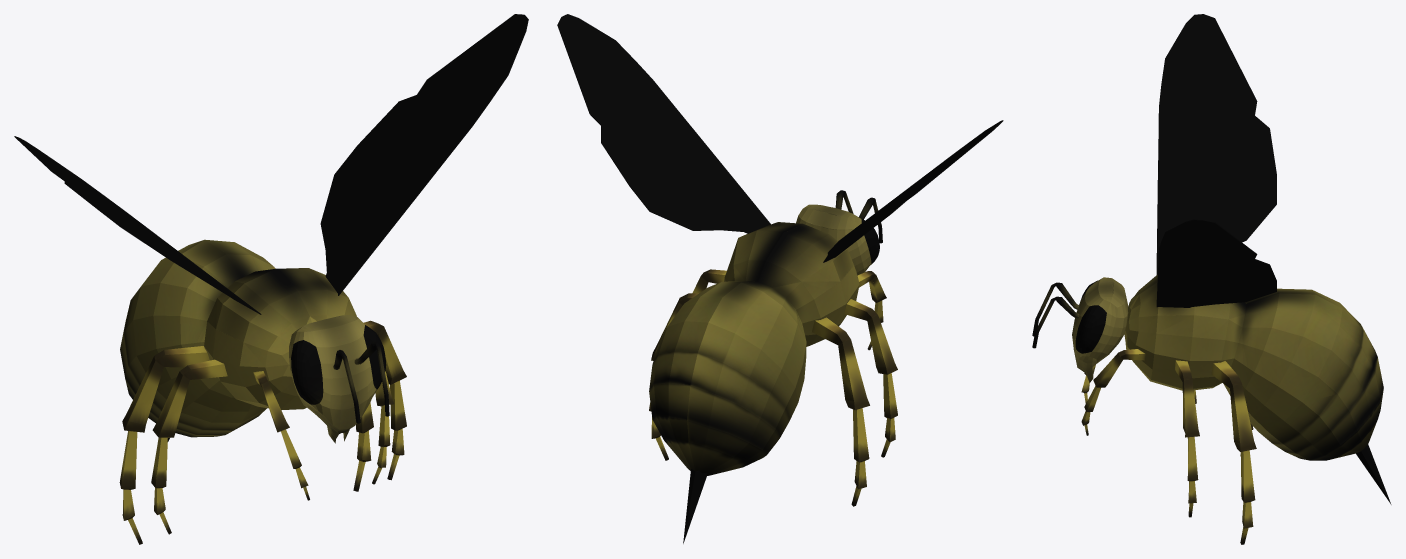
Rendered from beeReady.glb.
3 renders of one model, left to right at view 1: azimuth 30°, elevation 25°; view 2: azimuth 150°, elevation 25°; view 3: azimuth 270°, elevation 25°, orthographic. The views are drawn at different scales.
Parts seen in each view (by area): view 1: BodyMesh, Wingmesh.L, HeadMesh, BackLegMesh.R, Wingmesh.L.001, MiddleLegMesh.R, MiddleLegMesh.L, FrontLegMesh.L, FrontLegMesh.L.001, BackLegMesh.L; view 2: BodyMesh, Wingmesh.L, BackLegMesh.R, HeadMesh, MiddleLegMesh.R, Wingmesh.L.001, FrontLegMesh.L, BackLegMesh.L; view 3: BodyMesh, Wingmesh.L.001, Wingmesh.L, HeadMesh, BackLegMesh.L, MiddleLegMesh.L, FrontLegMesh.L.001, AntennaMesh.L.001, AntennaMesh.L.
Boxes of the visible parts, x1,y1,x2,y2 form: BodyMesh: [120, 239, 356, 441]; Wingmesh.L: [320, 14, 528, 295]; HeadMesh: [289, 315, 386, 443]; BackLegMesh.R: [119, 346, 209, 544]; Wingmesh.L.001: [14, 136, 261, 314]; MiddleLegMesh.R: [151, 359, 227, 534]; MiddleLegMesh.L: [363, 320, 406, 480]; FrontLegMesh.L: [253, 371, 309, 500]; FrontLegMesh.L.001: [372, 371, 393, 484]; BackLegMesh.L: [353, 402, 373, 491]; BodyMesh: [649, 222, 859, 543]; Wingmesh.L: [557, 14, 770, 233]; BackLegMesh.R: [812, 317, 869, 506]; HeadMesh: [796, 204, 879, 275]; MiddleLegMesh.R: [844, 299, 897, 457]; Wingmesh.L.001: [823, 120, 1003, 262]; FrontLegMesh.L: [857, 271, 886, 350]; BackLegMesh.L: [649, 293, 698, 460]; BodyMesh: [1124, 274, 1391, 504]; Wingmesh.L.001: [1156, 14, 1276, 274]; Wingmesh.L: [1156, 219, 1276, 307]; HeadMesh: [1072, 277, 1128, 382]; BackLegMesh.L: [1211, 361, 1256, 544]; MiddleLegMesh.L: [1175, 360, 1199, 517]; FrontLegMesh.L.001: [1081, 349, 1145, 435]; AntennaMesh.L.001: [1032, 282, 1079, 336]; AntennaMesh.L: [1032, 296, 1079, 348].
Bounding box in the file's own units: 3.48 × 3.05 × 2.56.
5 materials, 5 textured.
